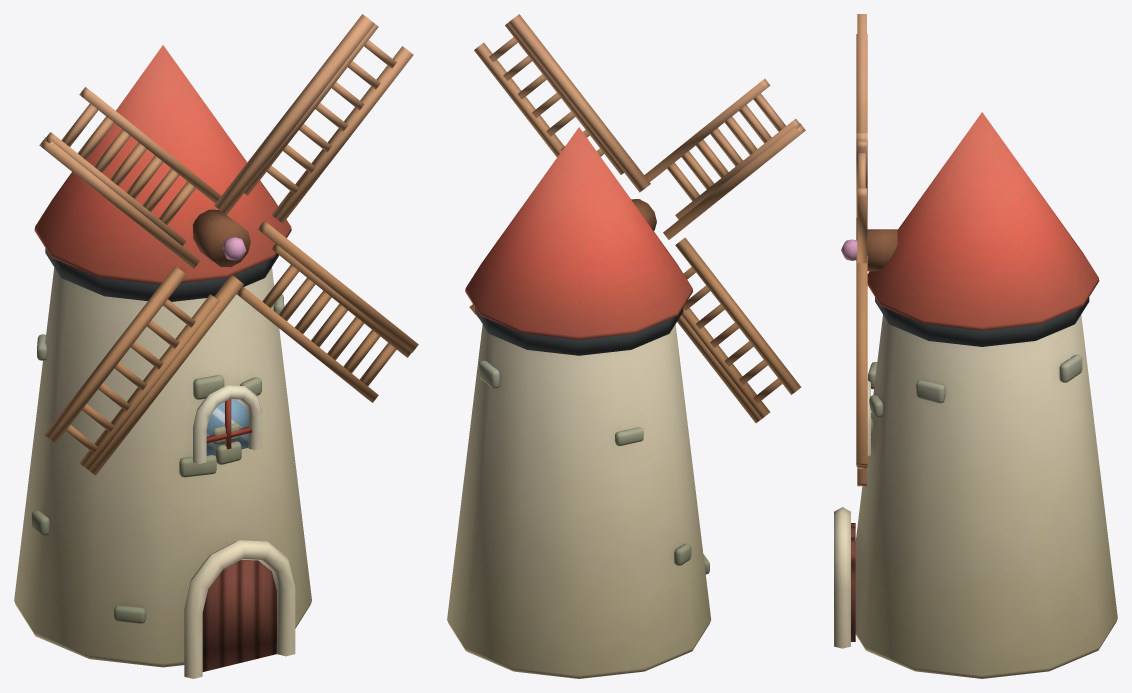
File: mill_1_mid.glb
3 renders of one model, left to right at view 1: azimuth 30°, elevation 25°; view 2: azimuth 150°, elevation 25°; view 3: azimuth 270°, elevation 25°, orthographic. The views are drawn at different scales.
Parts seen in each view (by area): view 1: mill_1, sails; view 2: mill_1, sails; view 3: mill_1, sails.
Part boxes in pixels (box(x1,y1,x2,y2)): mill_1: box(14, 45, 311, 678); sails: box(39, 14, 418, 475); mill_1: box(447, 127, 711, 678); sails: box(469, 14, 805, 422); mill_1: box(834, 112, 1117, 678); sails: box(841, 14, 867, 486).
Bounding box in the file's own units: 1.21 × 1.87 × 0.8738.
Materials: 1 (1 with a texture image).
